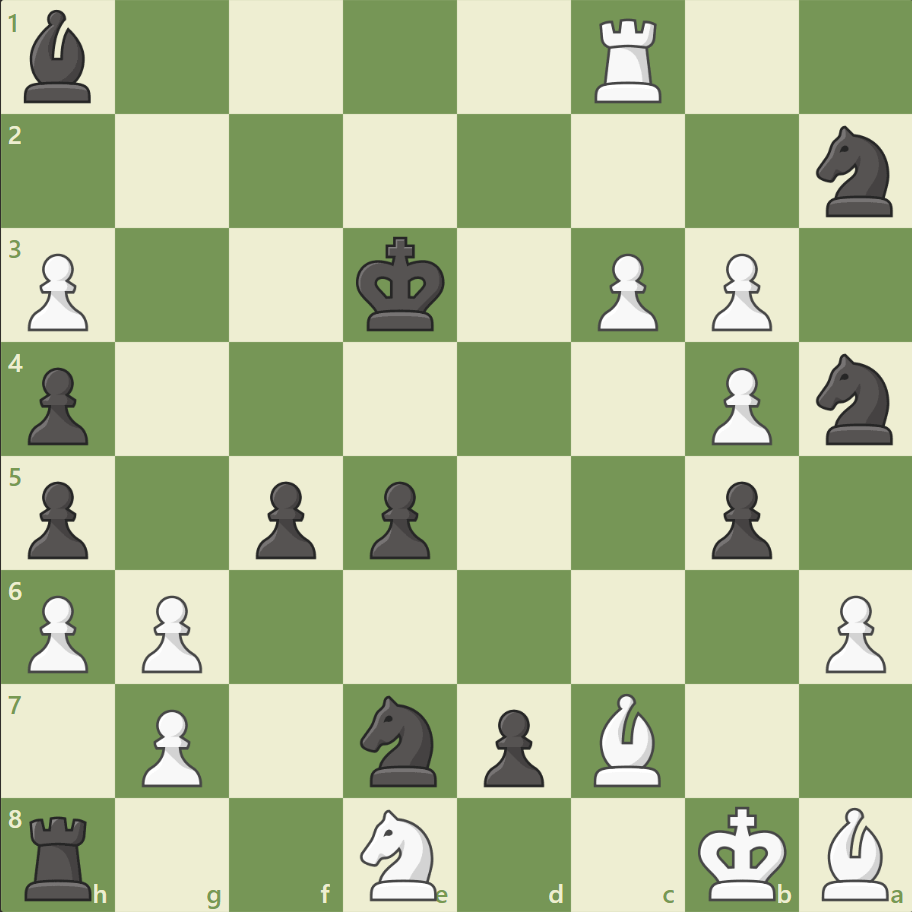B: (812, 801, 896, 904), (585, 687, 669, 790)
K: (692, 798, 792, 906)
N: (351, 802, 449, 904)
P: (133, 700, 208, 791), (133, 586, 208, 677), (20, 586, 95, 677), (701, 359, 776, 450), (701, 246, 776, 337), (20, 246, 95, 337), (815, 586, 889, 677), (588, 246, 662, 337)
R: (587, 12, 670, 109)
b: (17, 6, 101, 109)
k: (351, 231, 451, 339)
n: (351, 688, 449, 791), (806, 348, 903, 450), (806, 121, 903, 223)
p: (474, 700, 549, 791), (701, 473, 776, 564), (247, 473, 322, 564), (20, 473, 95, 564), (20, 359, 95, 450), (361, 473, 435, 564)
r: (19, 806, 102, 904)
